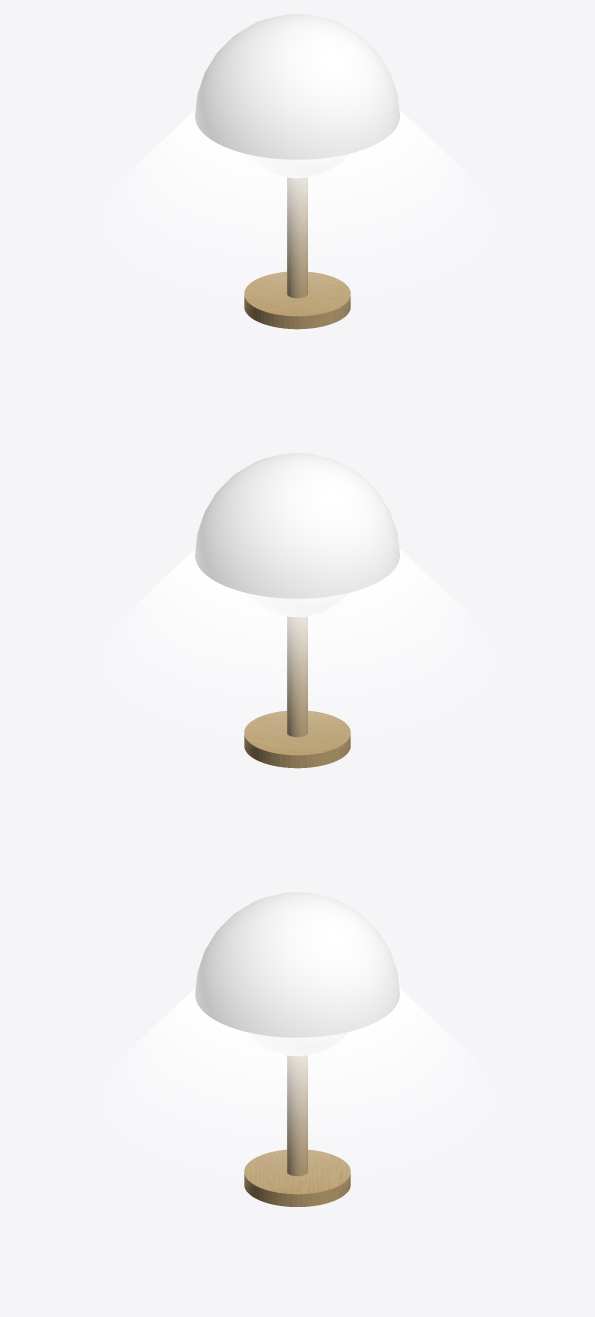
Rendered from WHITE_ON.glb.
The picture shows the model from 3 angles, top to bottom: view 1: azimuth 30°, elevation 25°; view 2: azimuth 150°, elevation 25°; view 3: azimuth 270°, elevation 25°; orthographic projection.
Parts seen in each view (by area): view 1: LIGHT_DOWN.002, DOME, BASE2, DOME2; view 2: LIGHT_DOWN.002, DOME, BASE2, DOME2; view 3: LIGHT_DOWN.002, DOME, BASE2, DOME2.
Boxes of the visible parts, left/top/right/bottom form: LIGHT_DOWN.002: left=114, top=110, right=480, bottom=279; DOME: left=195, top=14, right=399, bottom=159; BASE2: left=244, top=178, right=350, bottom=329; DOME2: left=255, top=162, right=339, bottom=177; LIGHT_DOWN.002: left=114, top=549, right=480, bottom=718; DOME: left=195, top=453, right=399, bottom=598; BASE2: left=244, top=617, right=350, bottom=768; DOME2: left=255, top=601, right=339, bottom=616; LIGHT_DOWN.002: left=114, top=988, right=480, bottom=1157; DOME: left=195, top=892, right=399, bottom=1037; BASE2: left=244, top=1056, right=350, bottom=1206; DOME2: left=255, top=1040, right=339, bottom=1055.
Bounding box in the file's own units: 0.7974 × 0.439 × 0.7974.
4 materials, 4 textured.
